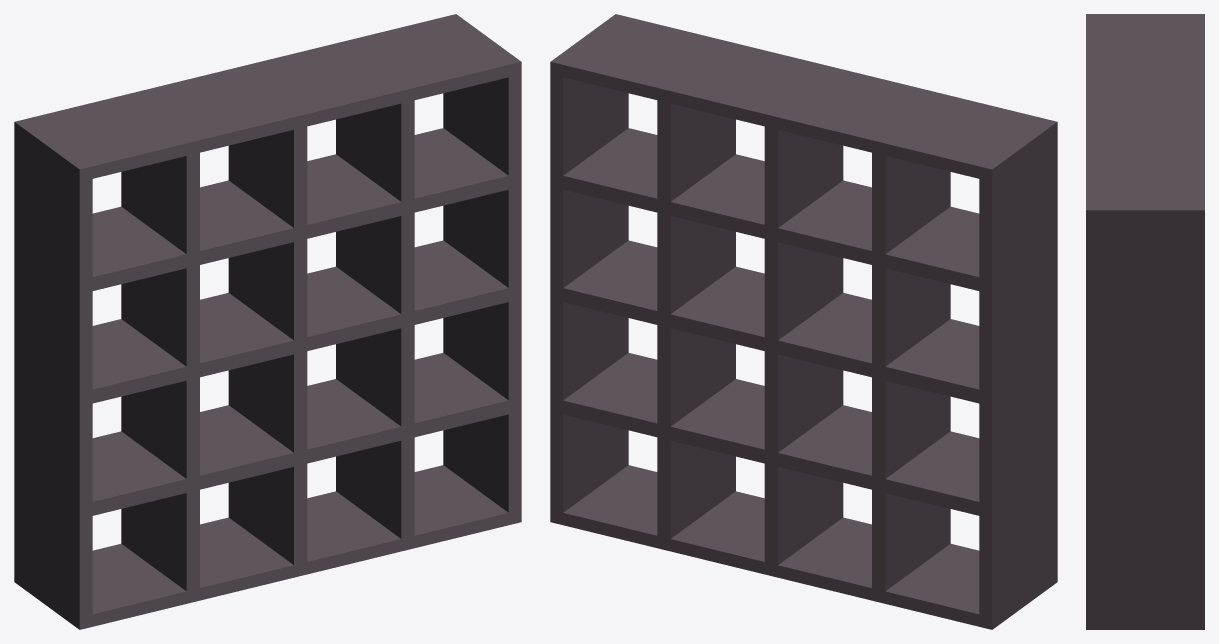
File: 4X4 Shelves.fbx
3 renders of one model, left to right at view 1: azimuth 30°, elevation 25°; view 2: azimuth 150°, elevation 25°; view 3: azimuth 270°, elevation 25°, orthographic. The views are drawn at different scales.
Visible parts, largest first — view 1: 4X4 Shelves; view 2: 4X4 Shelves; view 3: 4X4 Shelves.
Boxes of the visible parts, bbox=[...] form: 4X4 Shelves: bbox=[14, 14, 521, 629]; 4X4 Shelves: bbox=[550, 14, 1057, 629]; 4X4 Shelves: bbox=[1086, 14, 1204, 629].
Bounding box in the file's own units: 399 × 397 × 102.
